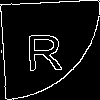R: (24, 24, 63, 72)
